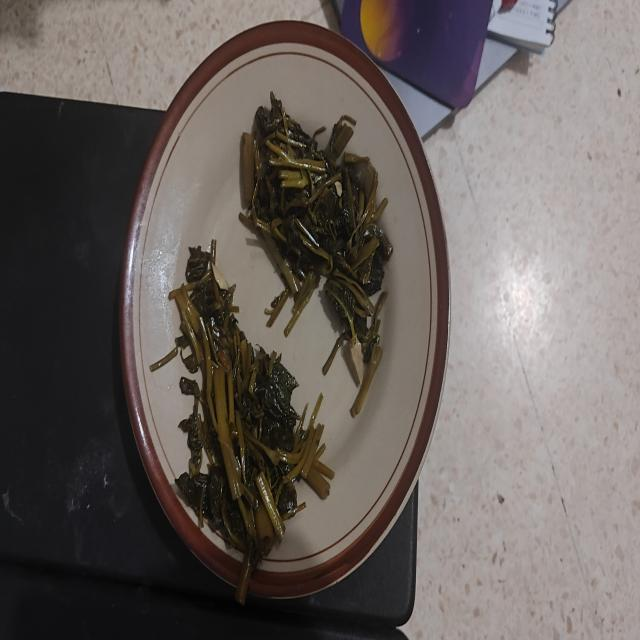tumis_kangkung: (169, 240, 334, 591), (248, 92, 392, 417)
